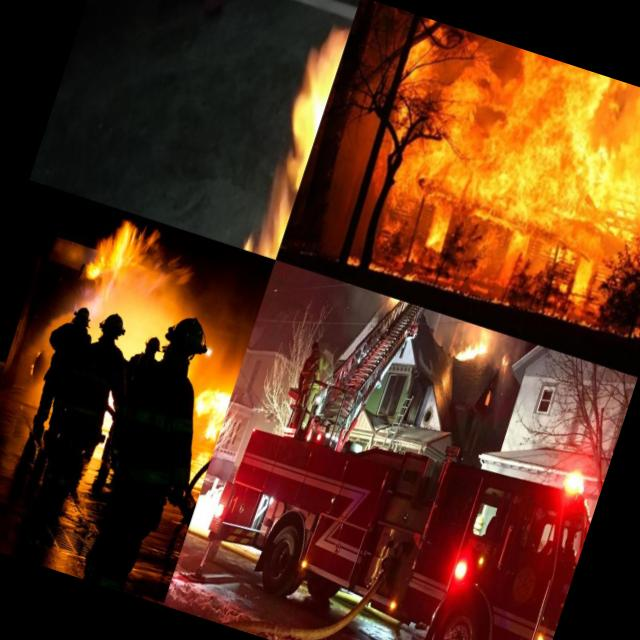fire: (342, 15, 640, 335), (73, 206, 198, 310), (182, 376, 235, 442), (446, 320, 490, 370), (494, 348, 516, 379)
